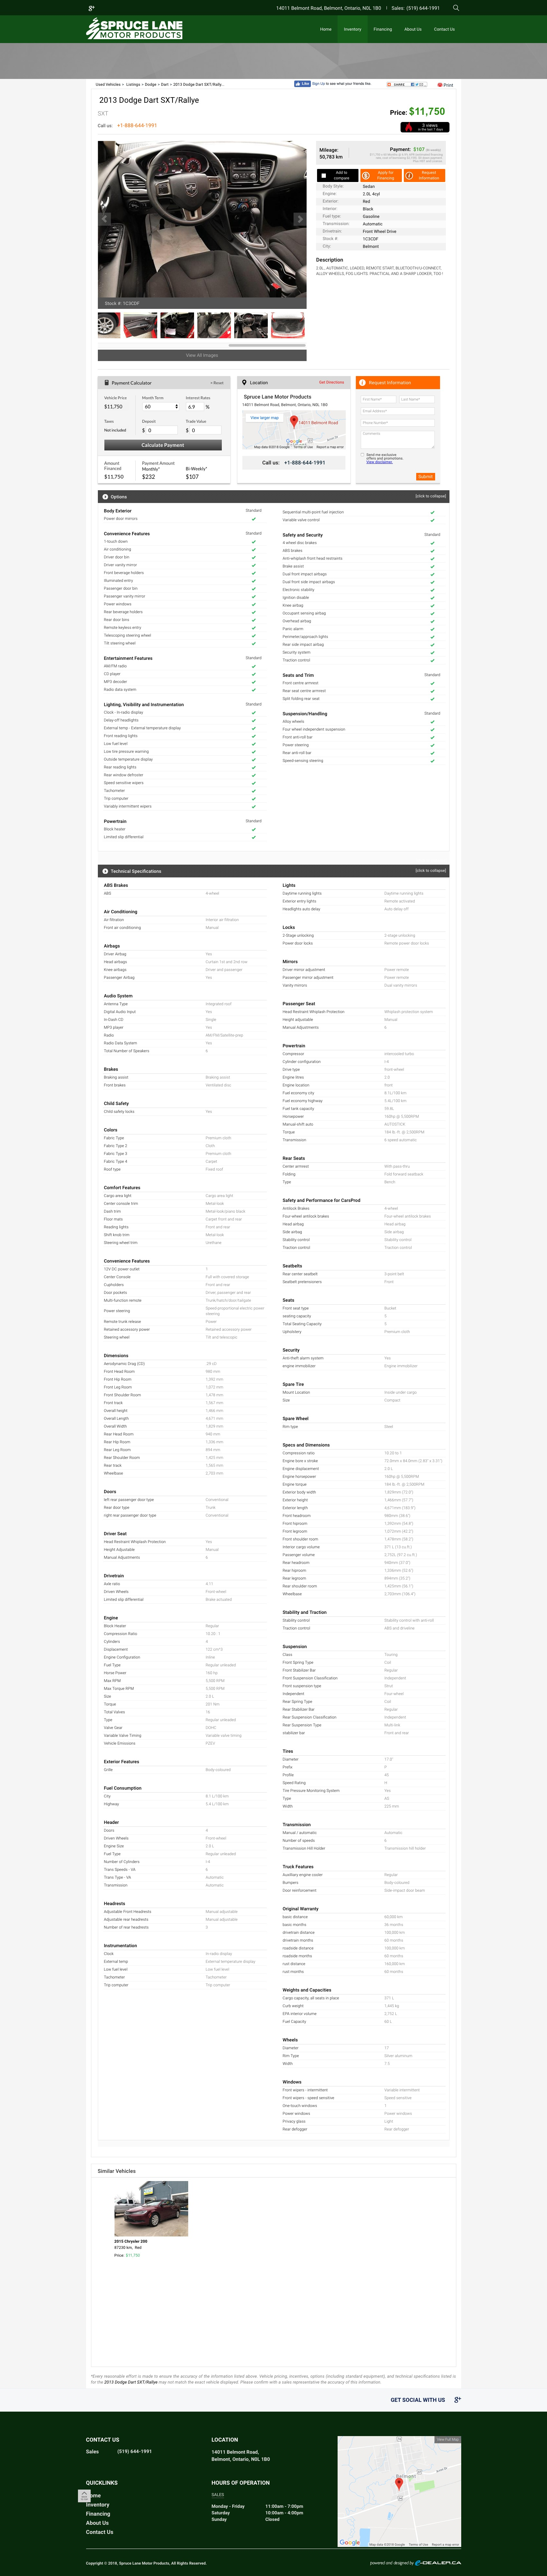car: (292, 212, 307, 227)
